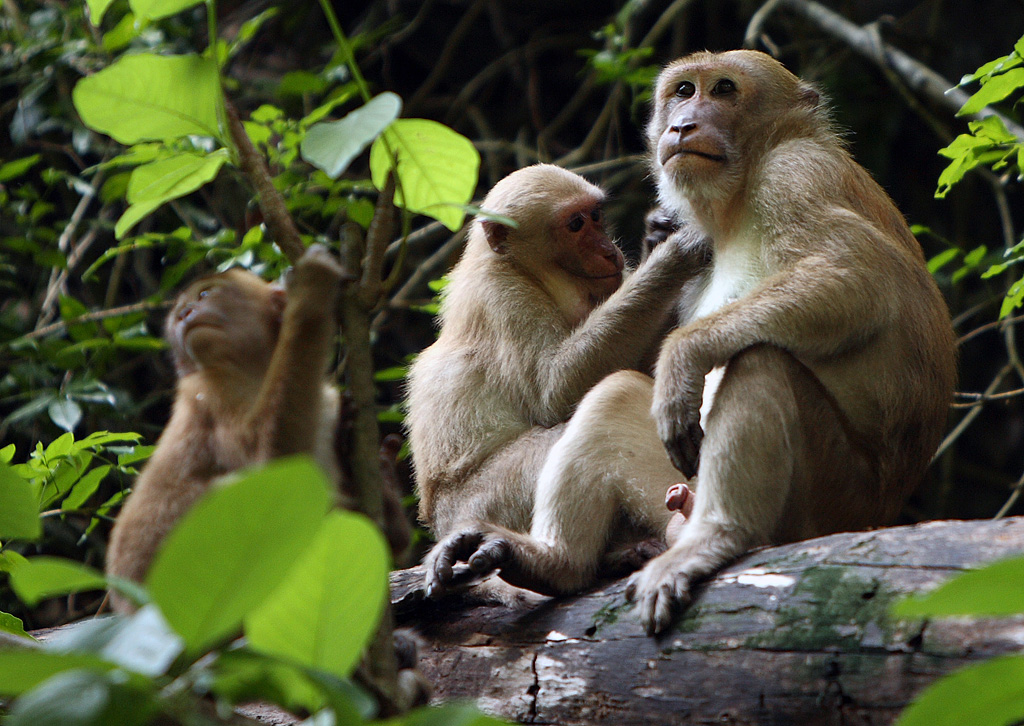monkey: (402, 40, 989, 649), (88, 227, 385, 662), (385, 153, 666, 595)
